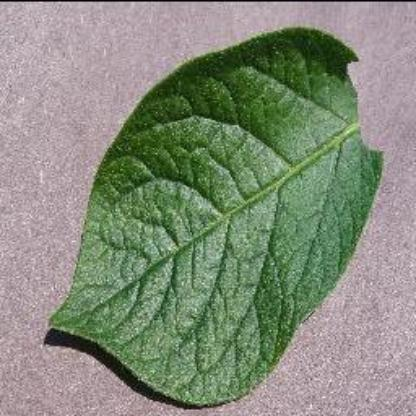Healthy-plant: (39, 18, 395, 410)
